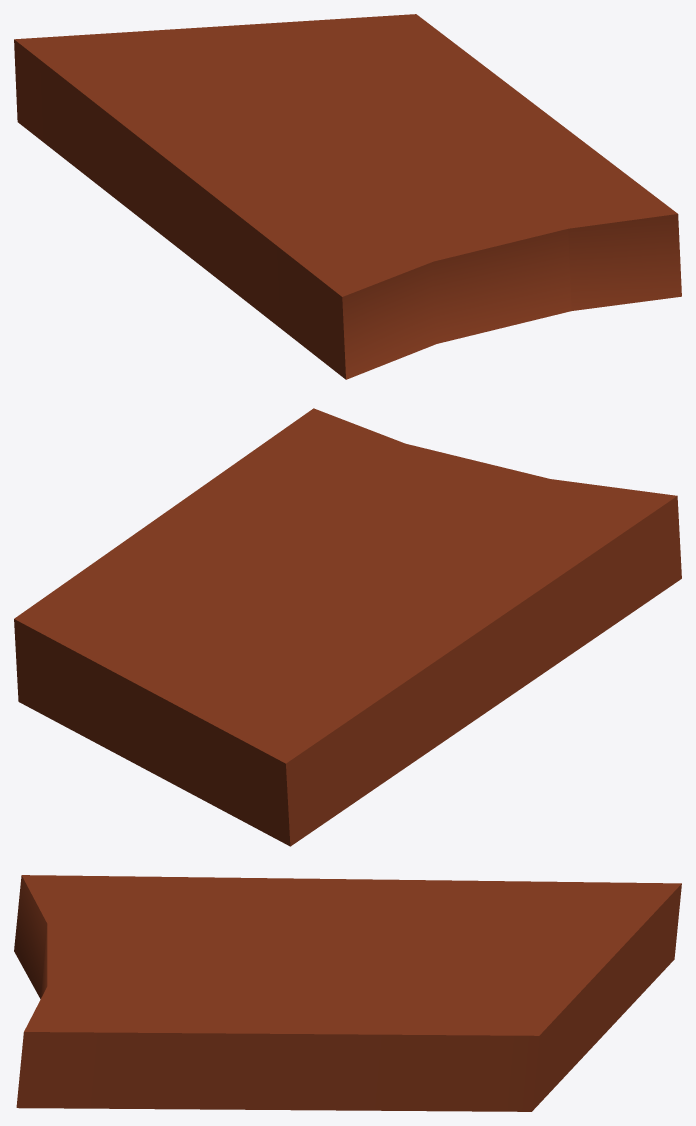
The model's file is BrokenBoard5.fbx.
3 renders of one model, top to bottom at view 1: azimuth 30°, elevation 25°; view 2: azimuth 150°, elevation 25°; view 3: azimuth 270°, elevation 25°, orthographic. The views are drawn at different scales.
Parts seen in each view (by area): view 1: BrokenBoard.005; view 2: BrokenBoard.005; view 3: BrokenBoard.005.
Part boxes in pixels (x1=…): BrokenBoard.005: x1=14, y1=14, x2=681, y2=379; BrokenBoard.005: x1=14, y1=408, x2=681, y2=846; BrokenBoard.005: x1=14, y1=875, x2=681, y2=1111.
Size of the model in its own units: 175 by 38.61 by 307.
